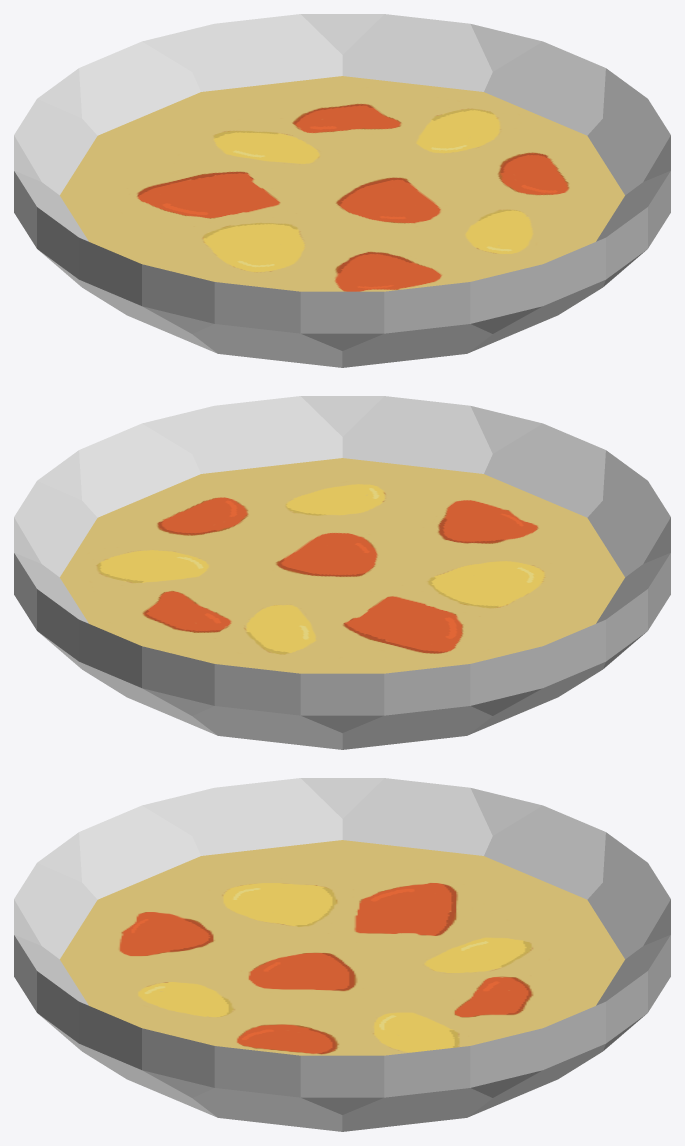
Rendered from Plate.fbx.
The picture shows the model from 3 angles, top to bottom: view 1: azimuth 30°, elevation 25°; view 2: azimuth 150°, elevation 25°; view 3: azimuth 270°, elevation 25°; orthographic projection.
Visible parts, largest first — view 1: PlateSurface, Cylinder; view 2: PlateSurface, Cylinder; view 3: PlateSurface, Cylinder.
Part boxes in pixels (box(x1,y1,x2,y2)): PlateSurface: box(60, 76, 624, 291); Cylinder: box(14, 14, 670, 367); PlateSurface: box(60, 458, 624, 673); Cylinder: box(14, 396, 670, 749); PlateSurface: box(60, 840, 624, 1055); Cylinder: box(14, 778, 670, 1131).
Bounding box in the file's own units: 28.35 × 5.23 × 28.35.
Materials: 2 (1 with a texture image).
